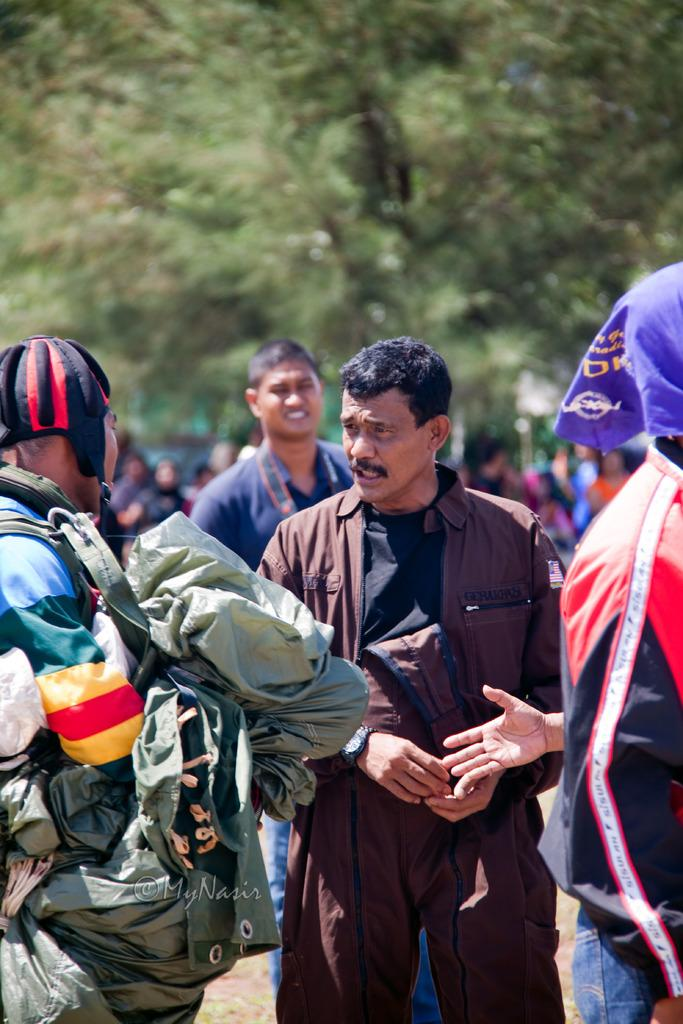nohelmet: (337, 335, 455, 509), (244, 337, 326, 450)
